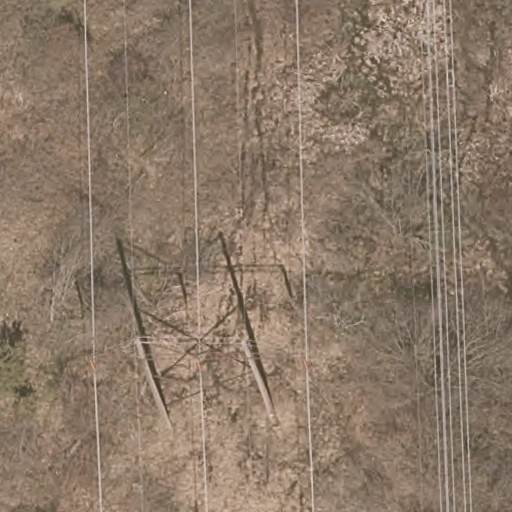TT: (90, 331, 285, 432)
